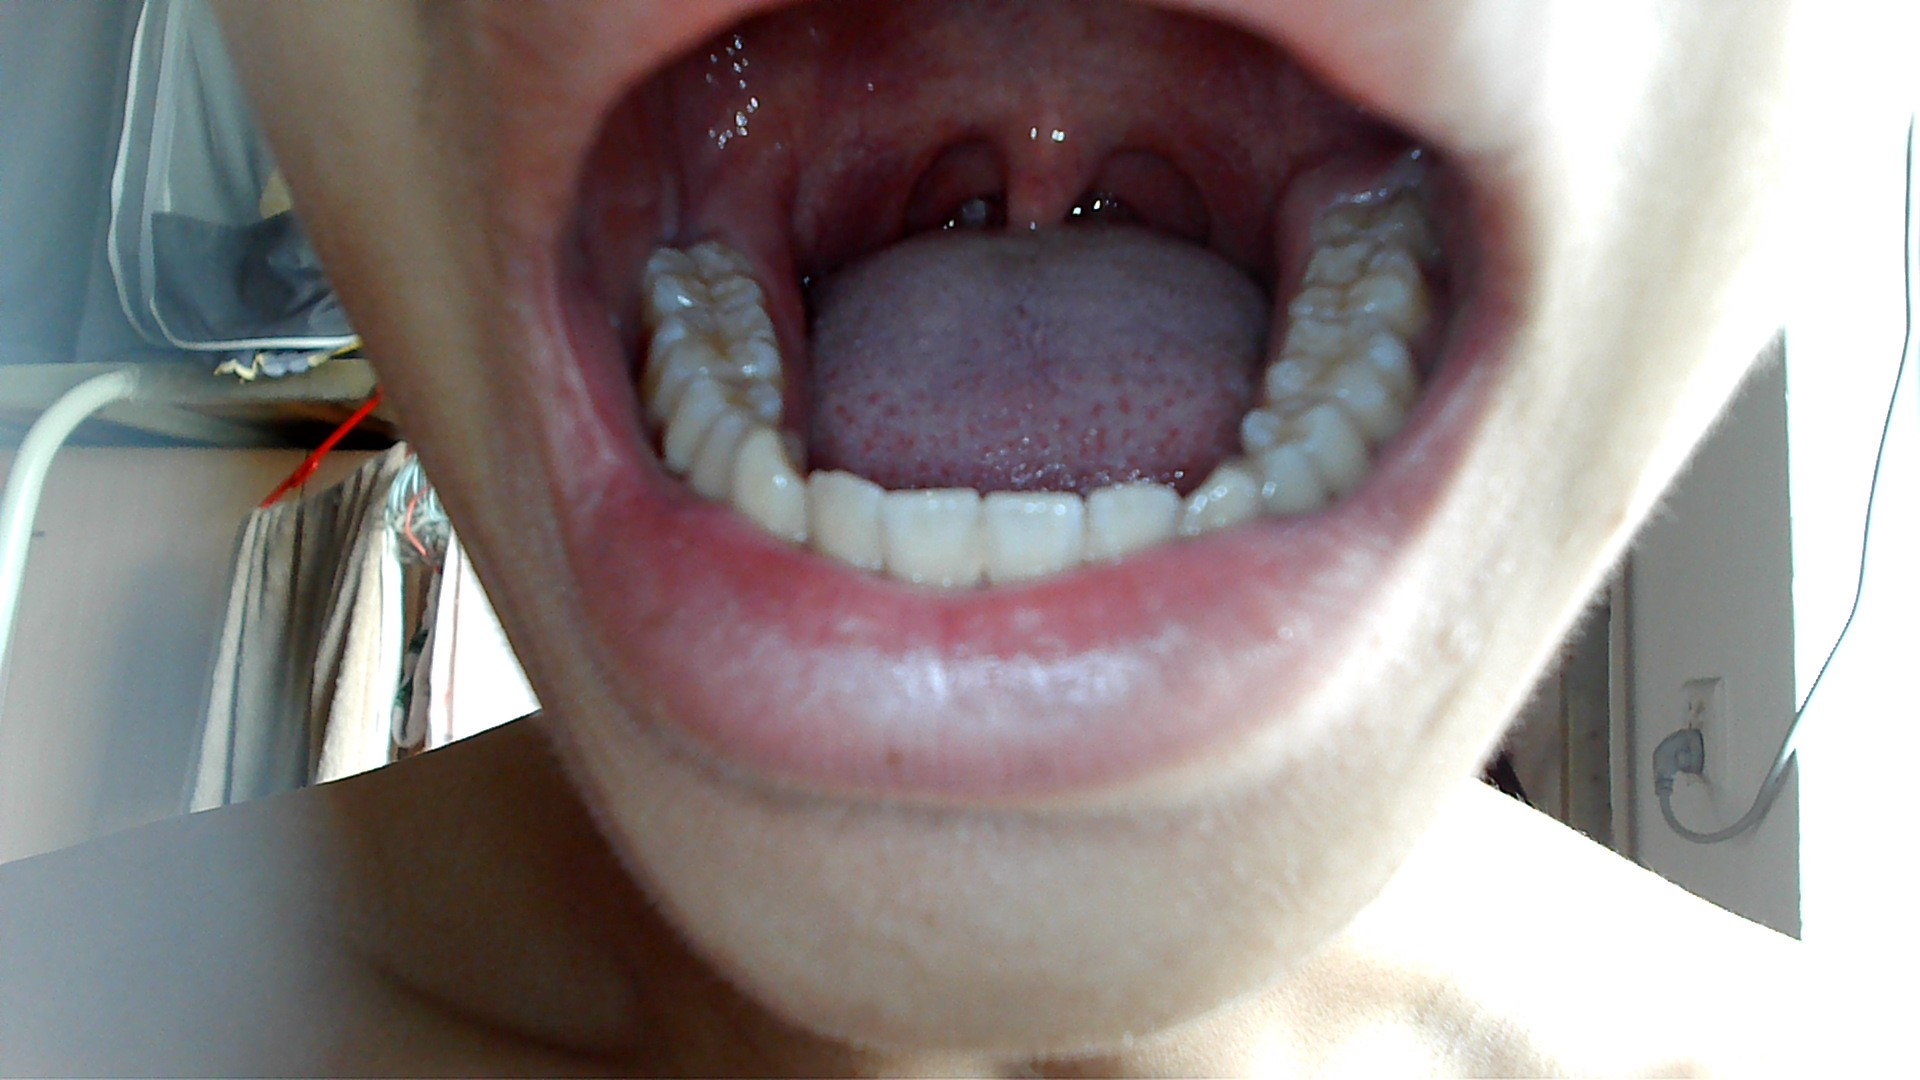throat: (1146, 108, 1238, 244), (862, 100, 942, 236)
